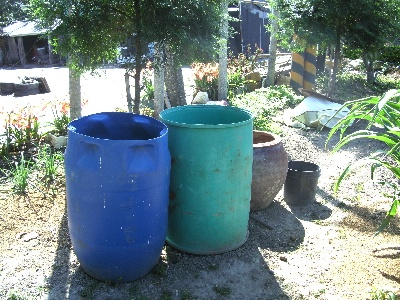bowl: (249, 130, 288, 212)
bucket: (62, 112, 172, 283), (160, 103, 253, 254), (283, 161, 321, 206)
plastic_bag: (301, 97, 345, 127)
